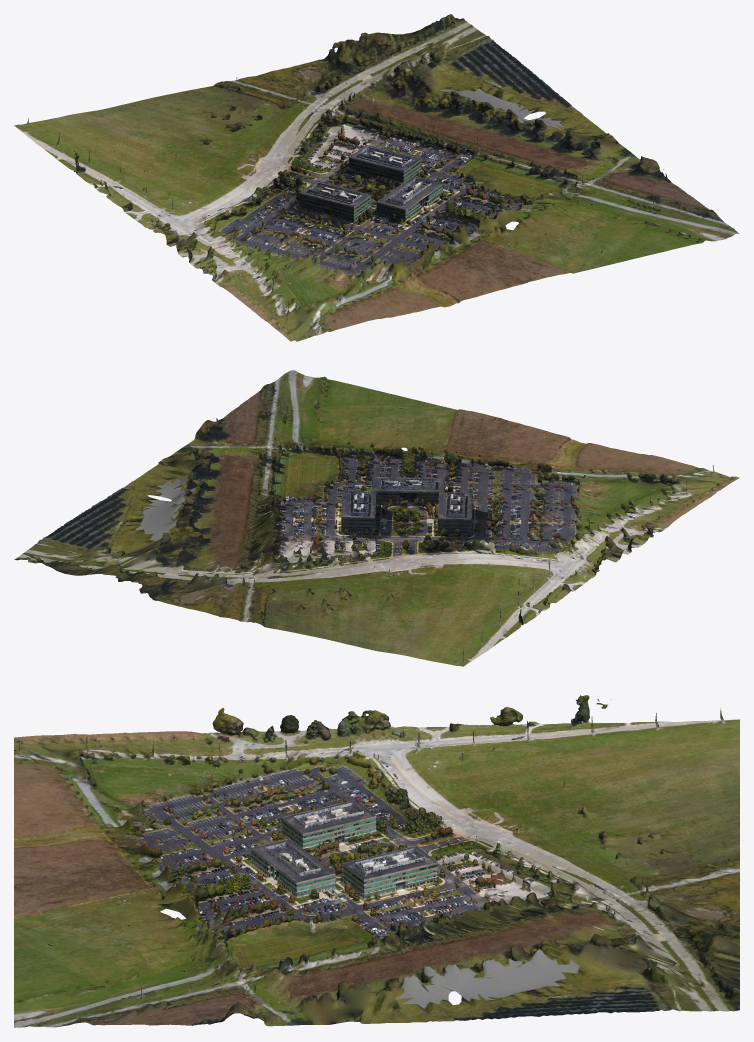
The model's file is agi-hq.glb.
3 views of the same model, one above another, from view 1: azimuth 30°, elevation 25°; view 2: azimuth 150°, elevation 25°; view 3: azimuth 270°, elevation 25° (orthographic). The views are drawn at different scales.
Visible parts, largest first — view 1: Node; view 2: Node; view 3: Node.
Boxes of the visible parts, x1=… form: Node: x1=14, y1=14, x2=739, y2=341; Node: x1=14, y1=370, x2=739, y2=666; Node: x1=14, y1=695, x2=739, y2=1027.
Size of the model in its own units: 529 by 40.6 by 563.
2 materials, 2 textured.
